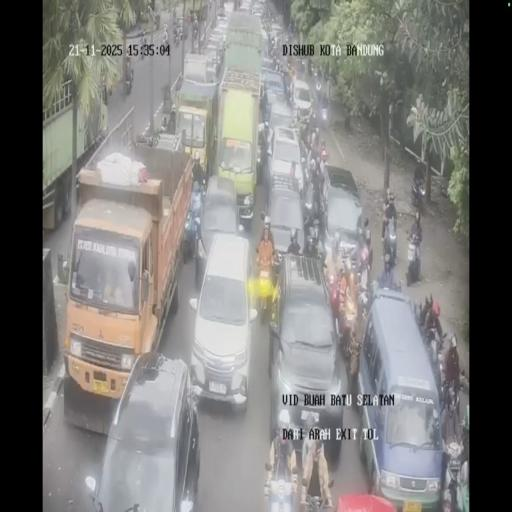3: (173, 64, 218, 178), (222, 10, 263, 85)
car: (356, 287, 442, 505), (90, 353, 200, 510), (268, 256, 344, 455), (196, 173, 242, 286), (320, 166, 364, 265), (266, 126, 304, 203), (261, 68, 286, 110), (292, 78, 313, 123), (204, 40, 222, 74), (213, 16, 229, 47), (259, 26, 269, 58), (270, 22, 283, 46), (251, 0, 265, 17), (216, 3, 228, 19), (239, 0, 252, 13)
truck: (254, 254, 278, 320), (424, 333, 444, 402), (381, 220, 397, 274), (406, 229, 422, 282), (411, 169, 425, 213), (259, 116, 271, 158), (298, 134, 310, 176), (318, 96, 332, 128), (123, 62, 133, 94), (192, 17, 199, 43), (138, 38, 146, 60), (174, 28, 181, 47), (162, 22, 168, 43), (182, 18, 188, 38), (172, 8, 177, 24), (208, 0, 212, 11)
